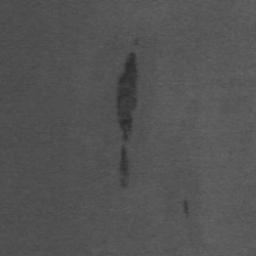Iron scale compression: (116, 52, 137, 144), (119, 146, 128, 189), (182, 197, 189, 220)
